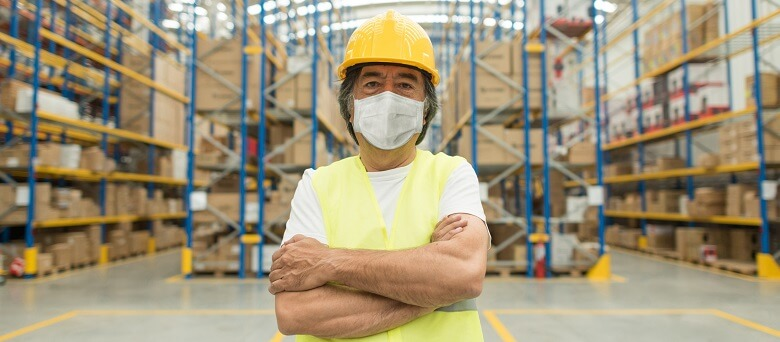hard-hat: (334, 9, 443, 91)
